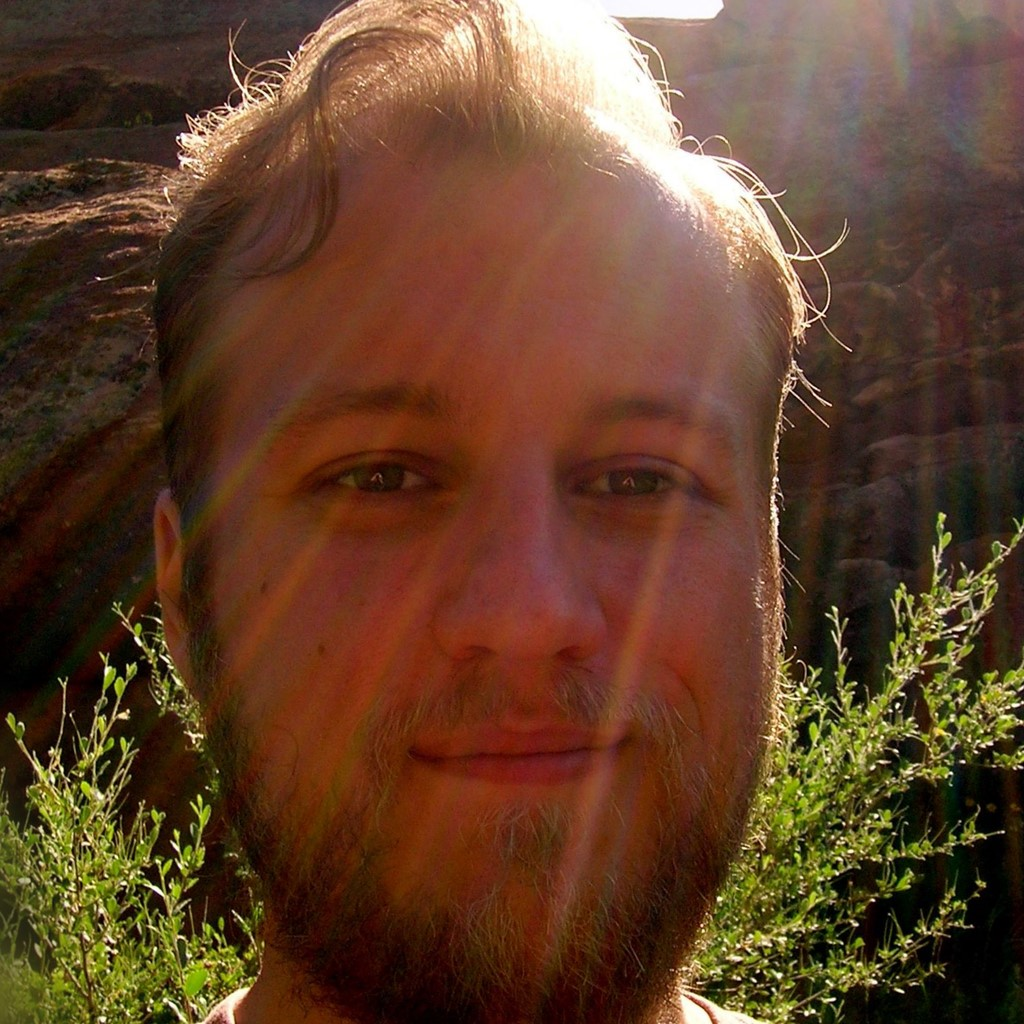sin_mascara: (143, 95, 771, 990)
